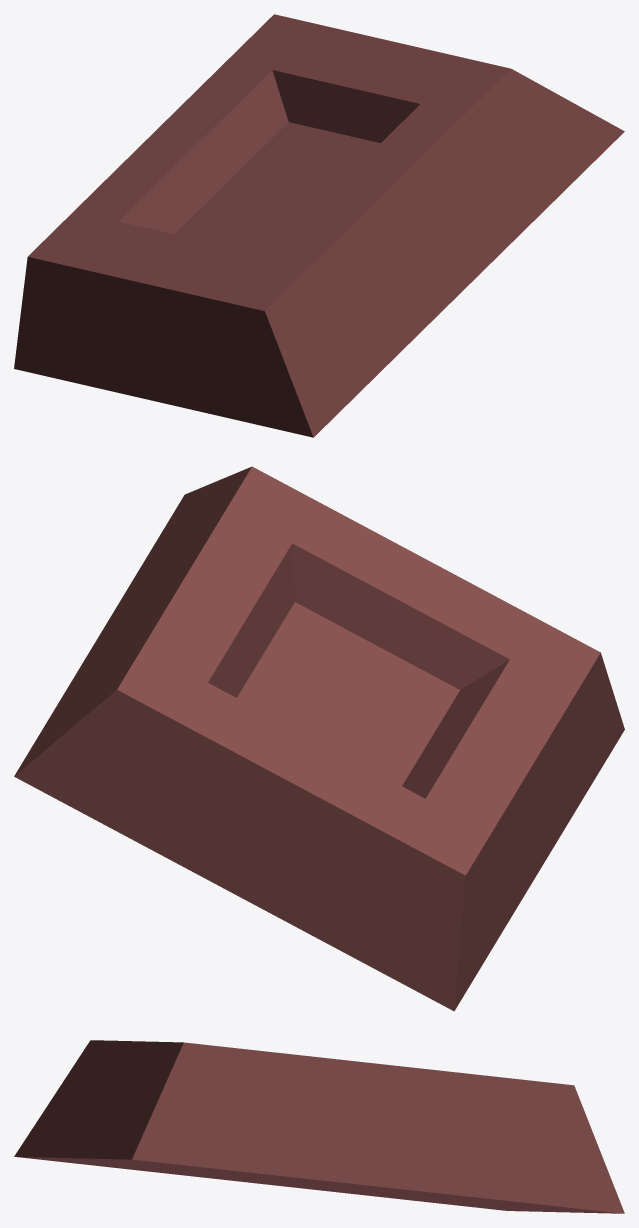
File: SM_choco_1.fbx
The picture shows the model from 3 angles, top to bottom: view 1: azimuth 30°, elevation 25°; view 2: azimuth 150°, elevation 25°; view 3: azimuth 270°, elevation 25°; orthographic projection. The views are drawn at different scales.
Parts seen in each view (by area): view 1: SM_choco_1; view 2: SM_choco_1; view 3: SM_choco_1.
Part boxes in pixels (left/top/right/bottom): SM_choco_1: left=14, top=14, right=624, bottom=437; SM_choco_1: left=14, top=466, right=624, bottom=1011; SM_choco_1: left=14, top=1040, right=624, bottom=1213.
Bounding box in the file's own units: 192 × 138 × 220.
1 material, 1 textured.
